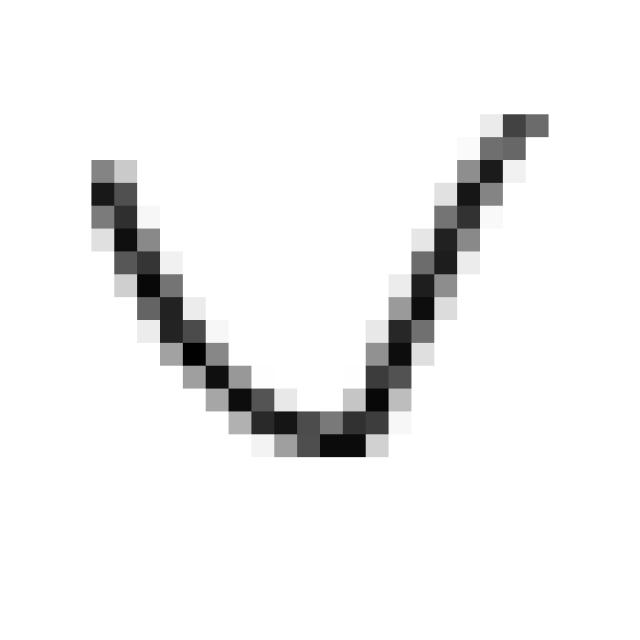7 -seven-: (68, 96, 564, 474)
